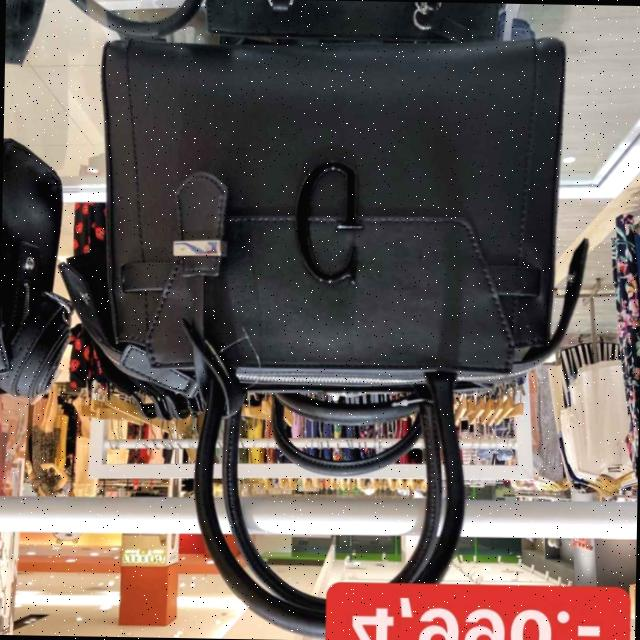Handbag: (64, 18, 612, 438)
